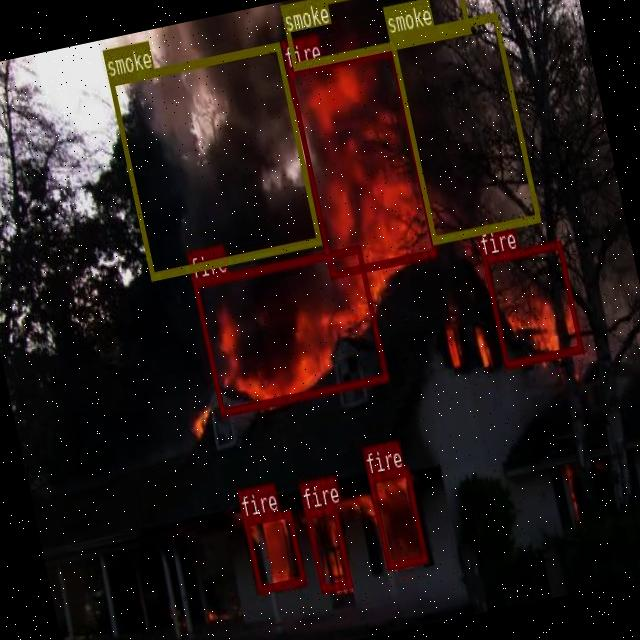fire: (286, 46, 436, 278), (191, 243, 388, 416), (480, 238, 582, 367), (366, 466, 427, 569), (241, 508, 304, 592), (304, 503, 352, 592)
smoke: (107, 40, 320, 278), (387, 12, 540, 242), (279, 0, 469, 68)
